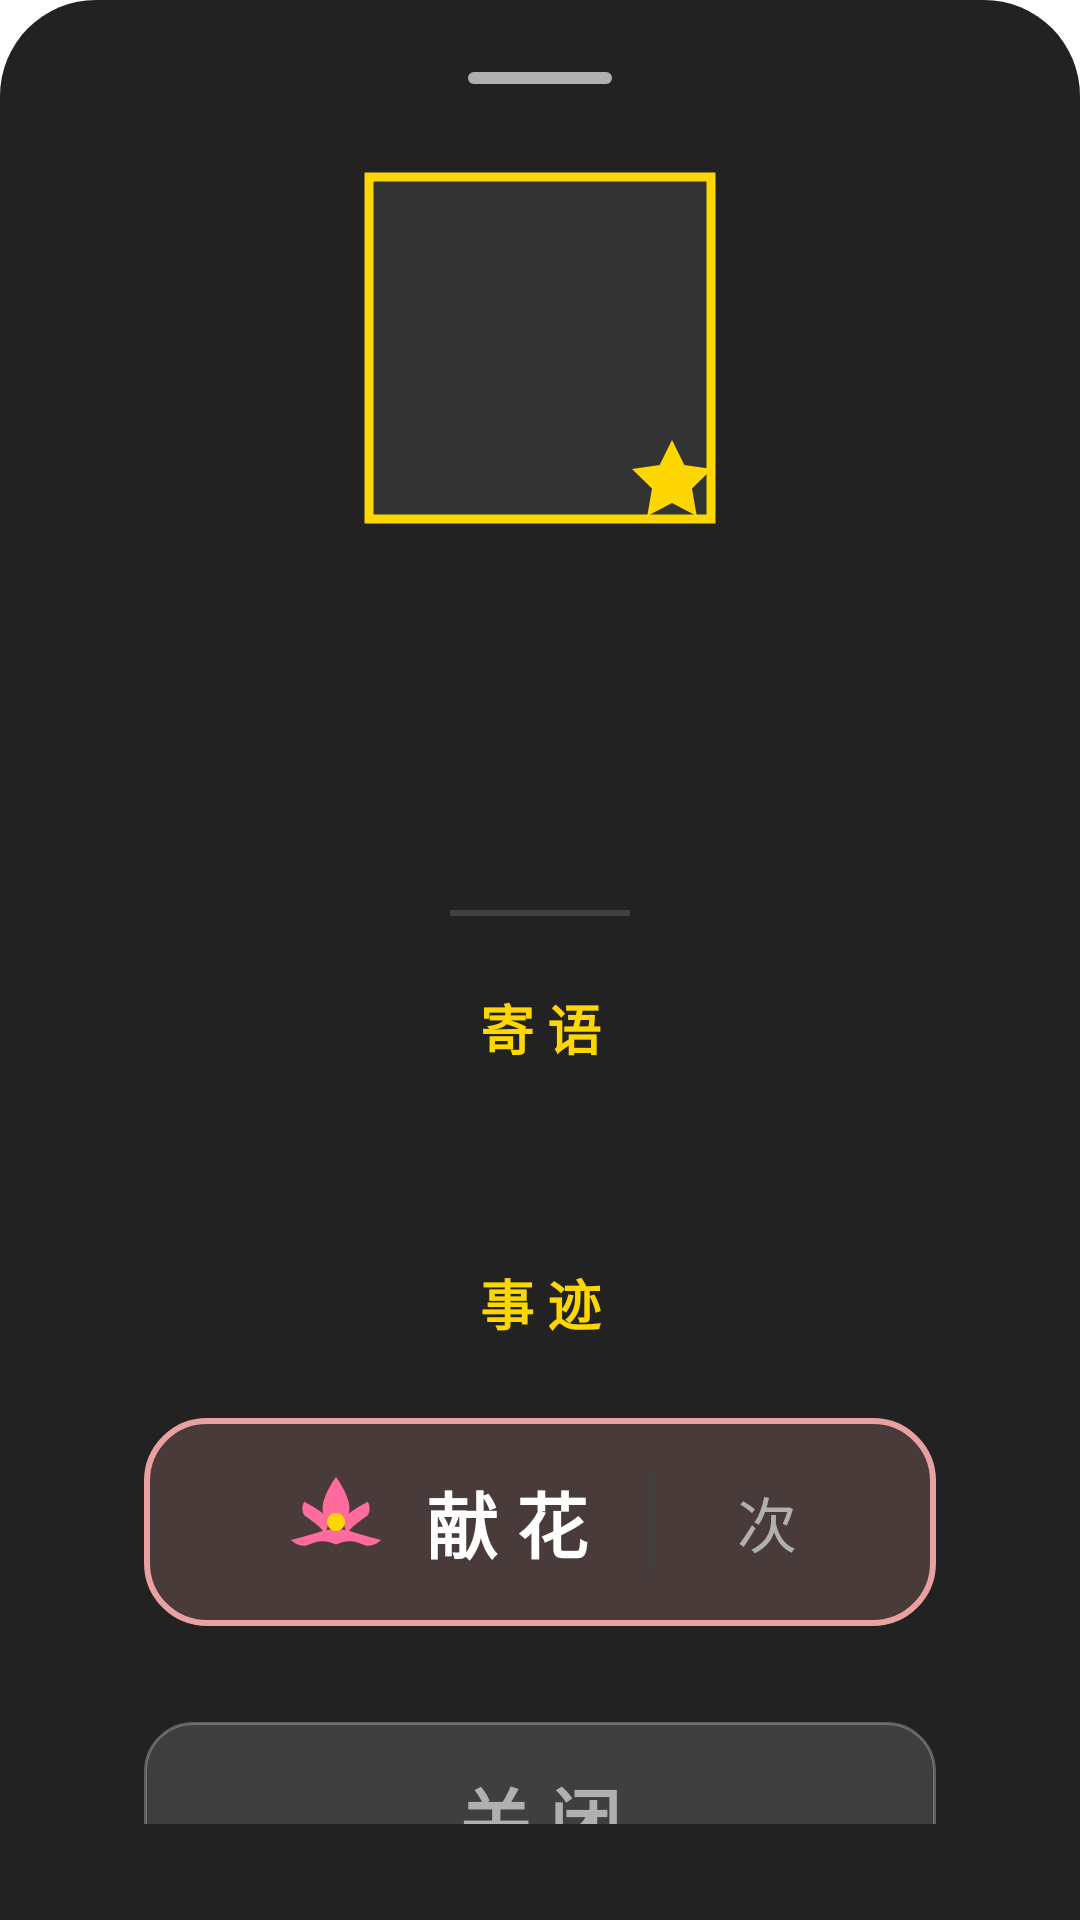

Icons on this 1080px x 1920px Android screen, each with its box as (x1, y1, x2, y2):
纪念星: (624, 432, 716, 524)
